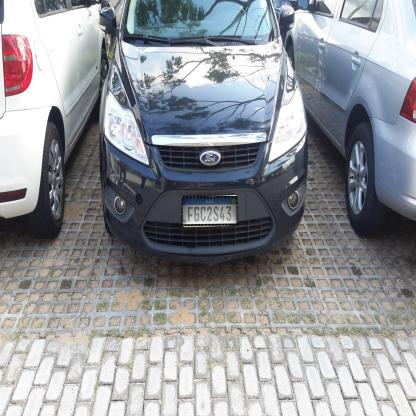PlacaM: (182, 196, 238, 226)
